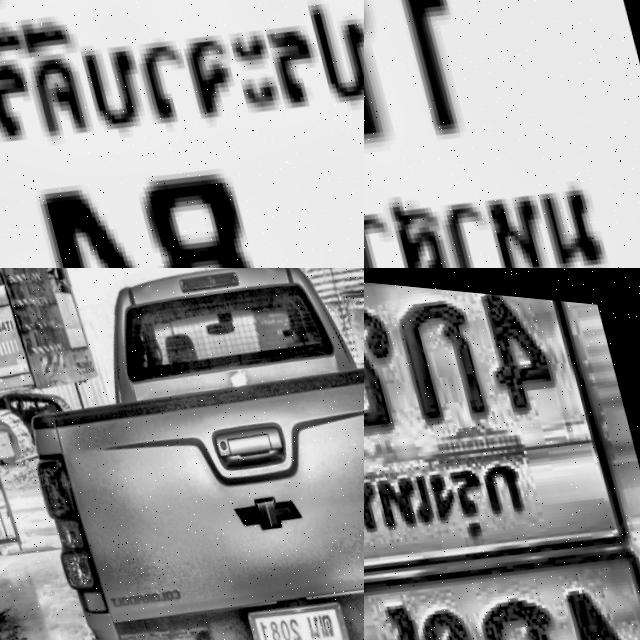license-plate: (364, 268, 637, 640), (0, 0, 364, 268), (364, 0, 640, 268), (364, 488, 640, 640), (239, 583, 350, 640)
